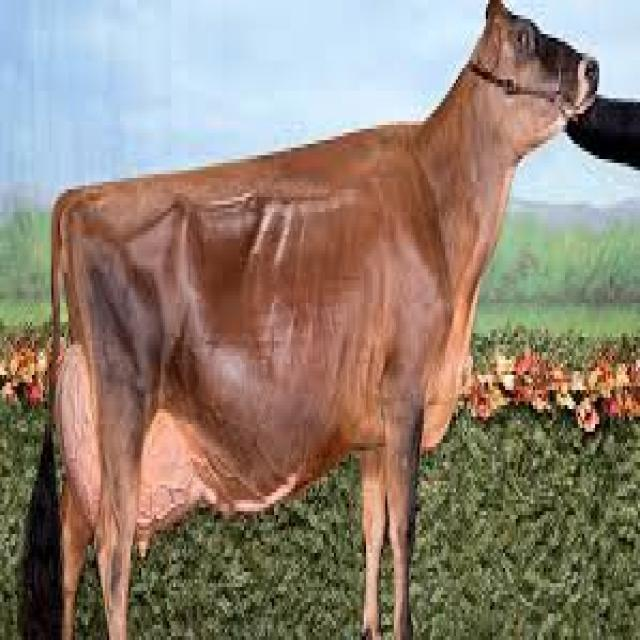cow: (24, 0, 597, 636)
